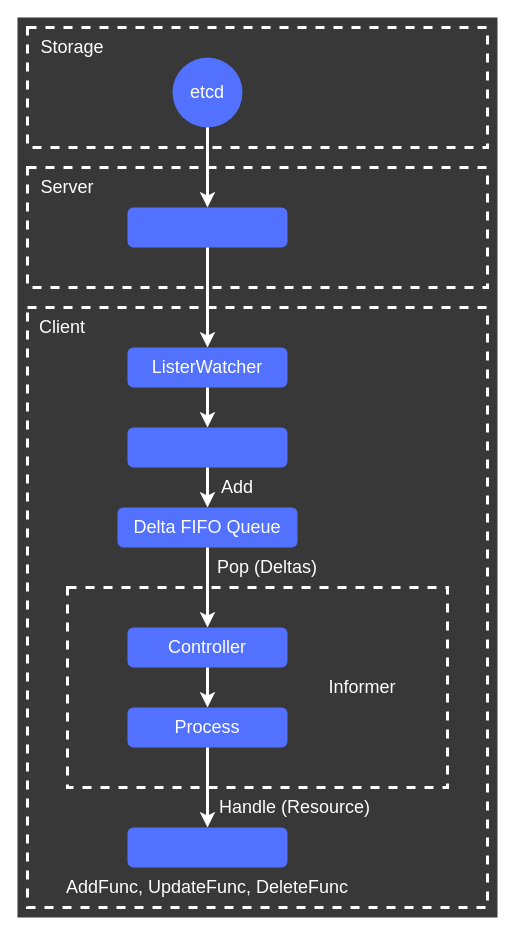
This 514x934 diagram has some shape labels left out. Each missing label, with the centre of its shape:
"API Server" belongs at point (207, 227).
"EventHandler" belongs at point (207, 847).
"Reflector" belongs at point (207, 447).
